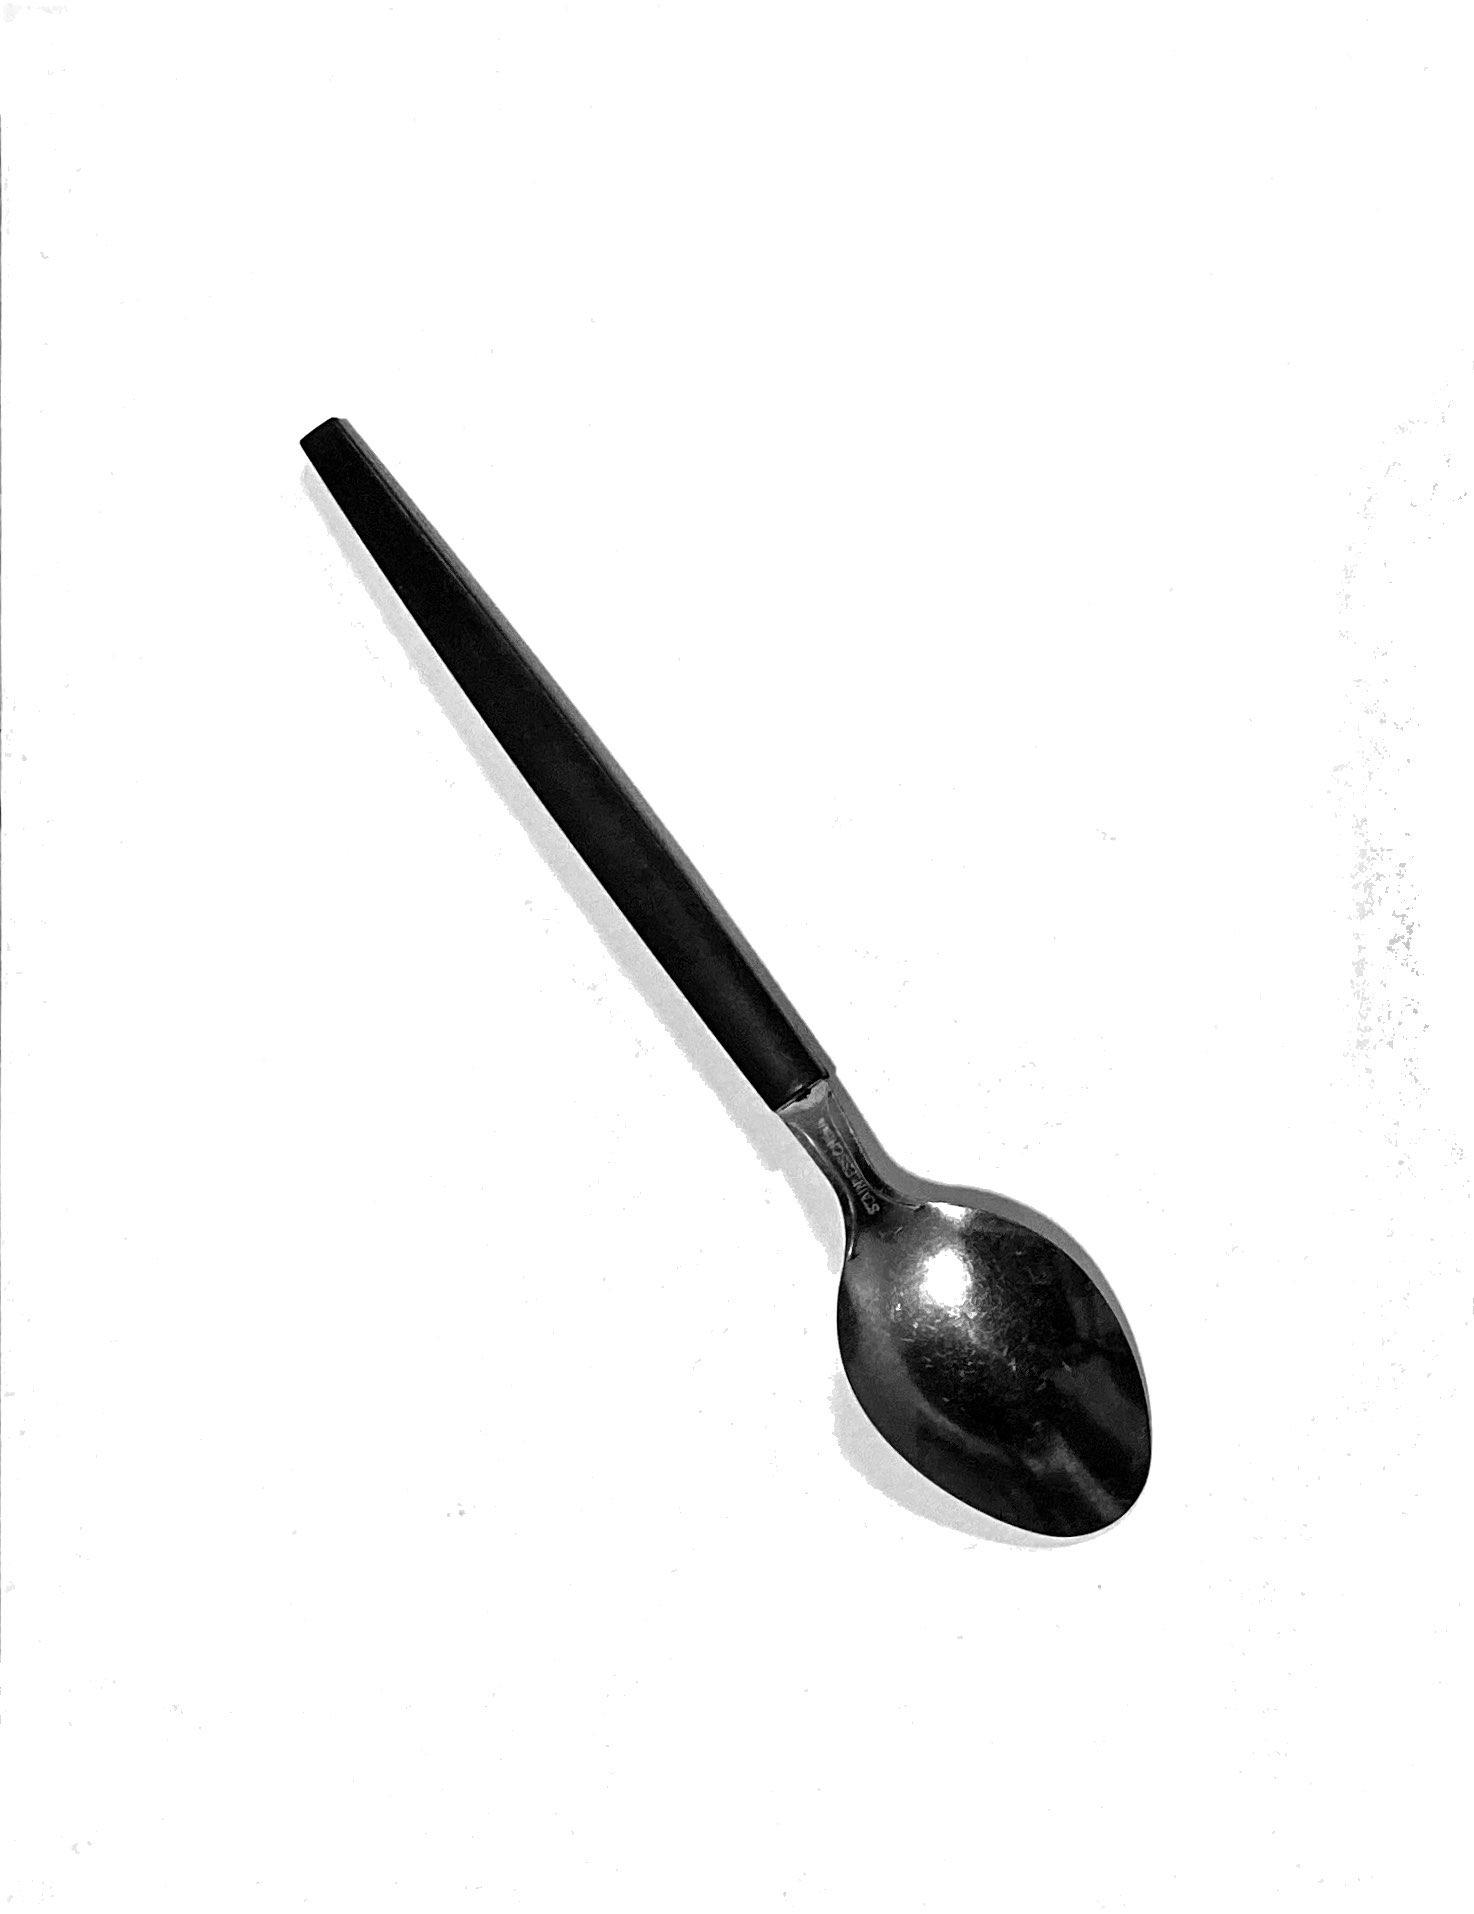Spoon: (262, 342, 1366, 1614)
